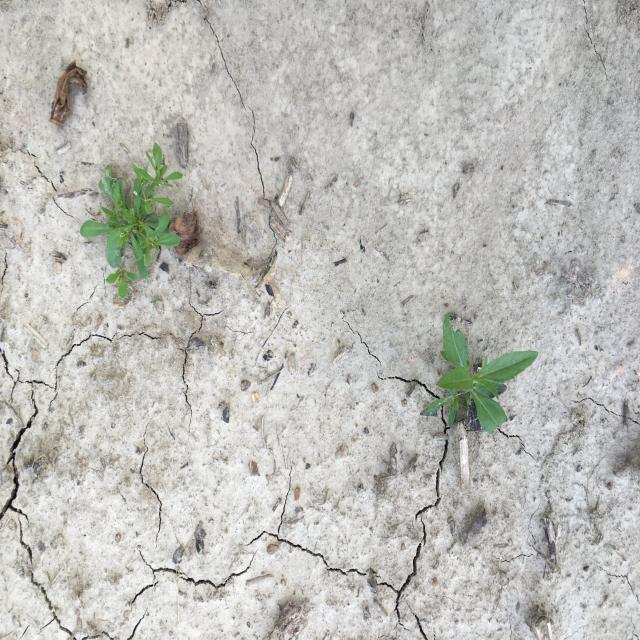Carpetweed: (78, 141, 184, 301)
Eclipta: (418, 310, 540, 436)
